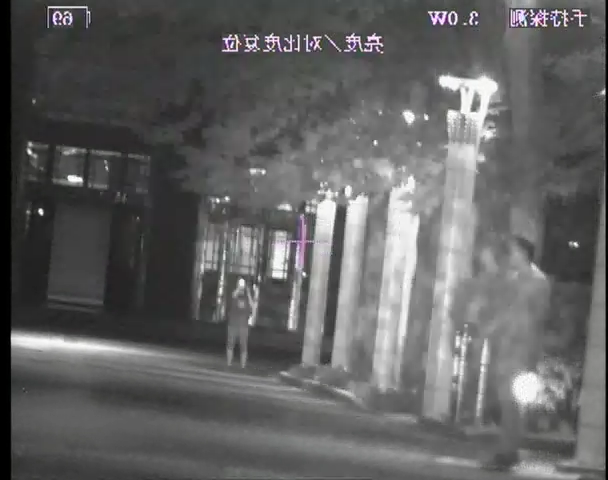my: (237, 276, 245, 287)
